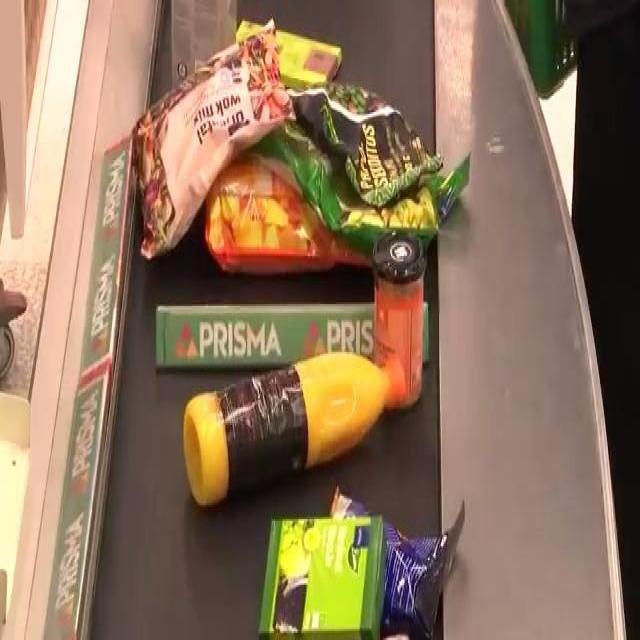beverage: (184, 343, 407, 509)
food-box: (136, 33, 284, 264), (204, 153, 451, 274), (259, 120, 476, 236), (287, 90, 433, 205), (166, 0, 240, 114), (374, 234, 424, 402), (240, 17, 346, 90)
utility-box: (256, 510, 378, 633)
